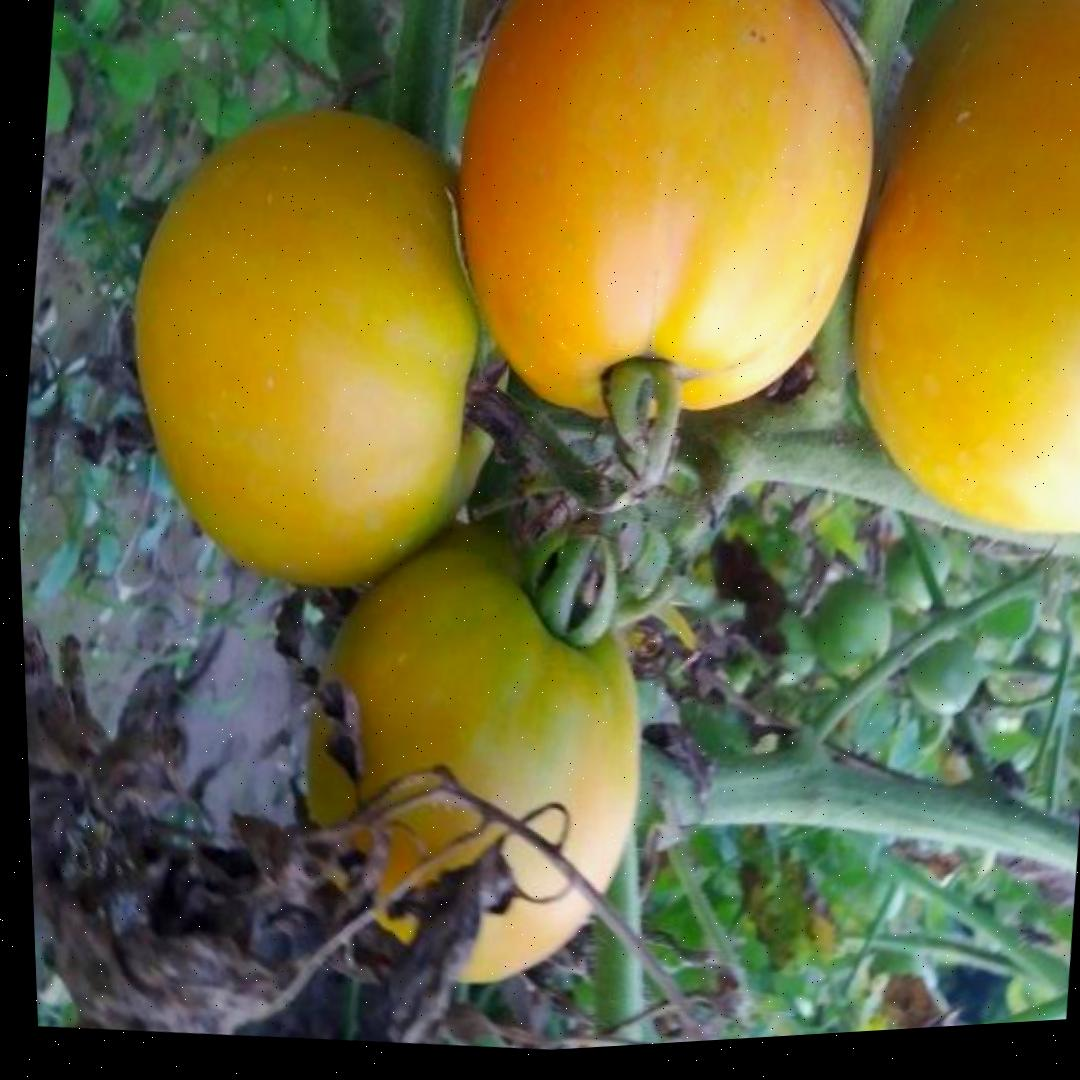setengah_matang: (92, 71, 549, 627), (429, 0, 907, 471), (265, 486, 679, 1017)
